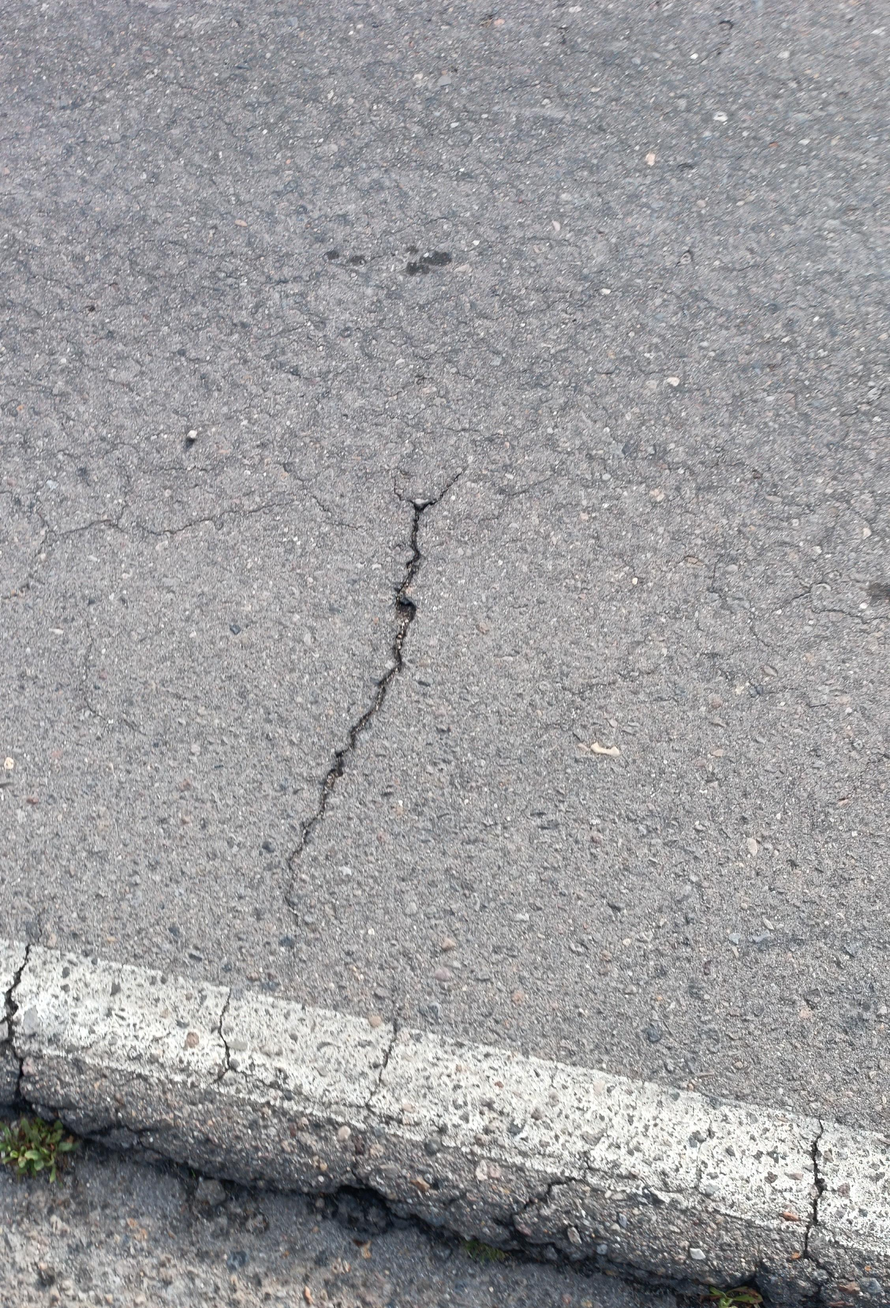GRIETA: (285, 471, 465, 917), (802, 1119, 836, 1291), (4, 944, 33, 1100)
PIEL DE COCODRILO: (0, 0, 890, 742)
